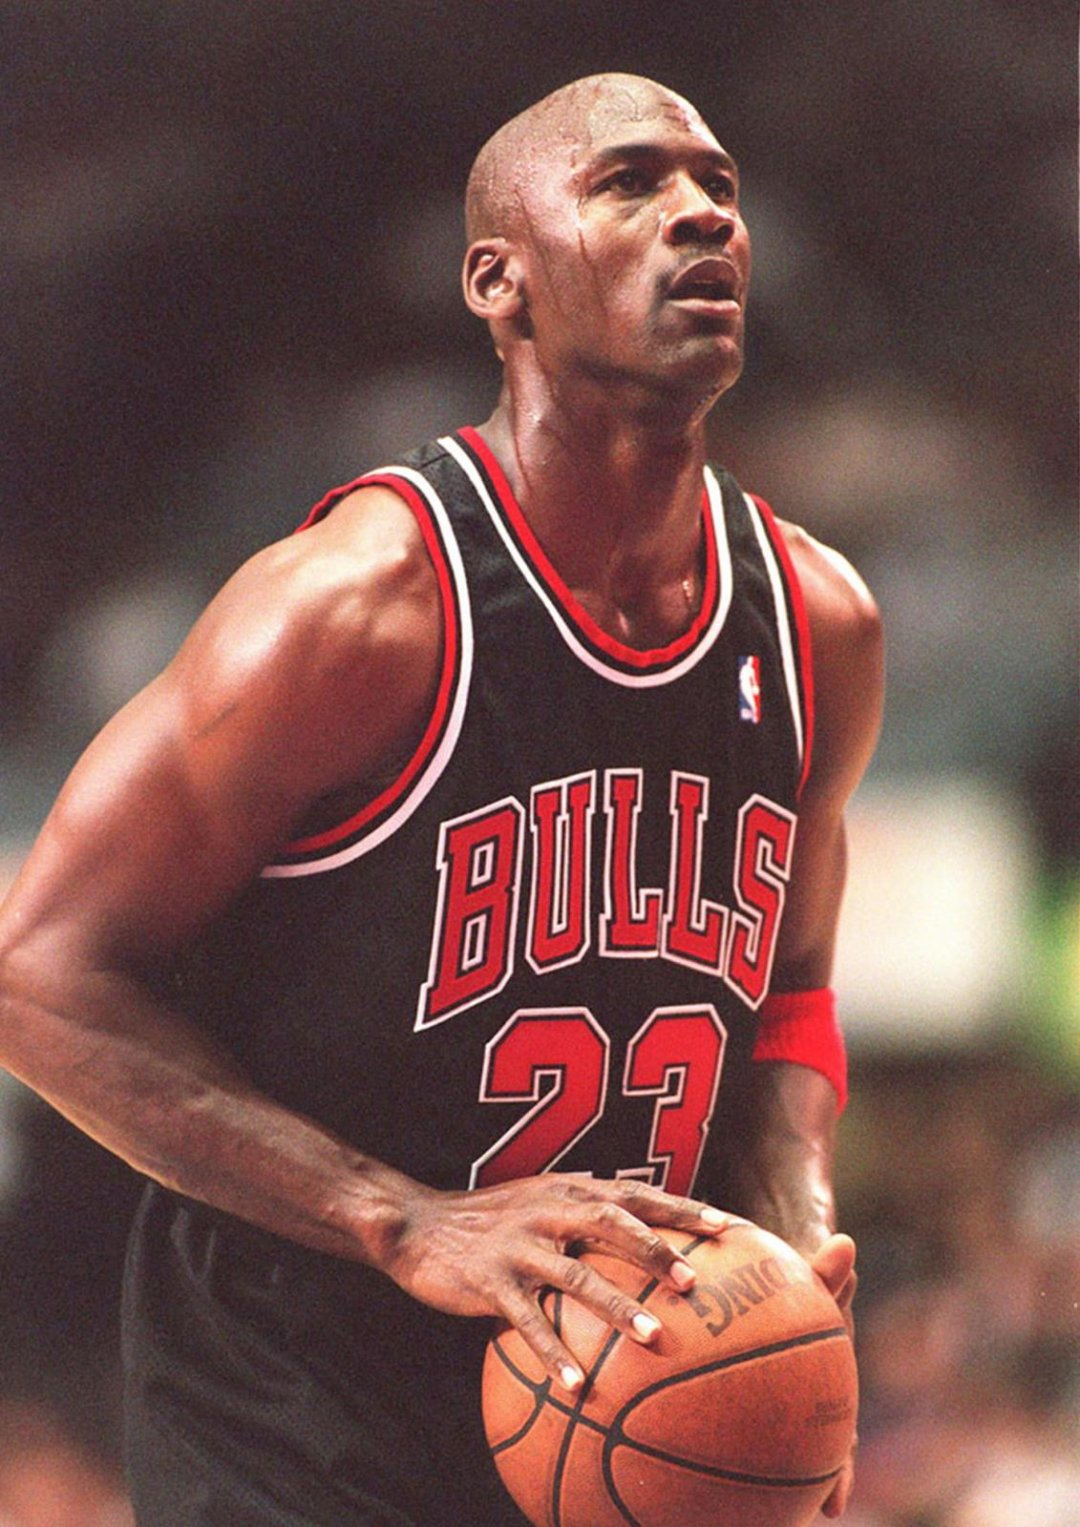ball: (482, 1196, 859, 1525)
